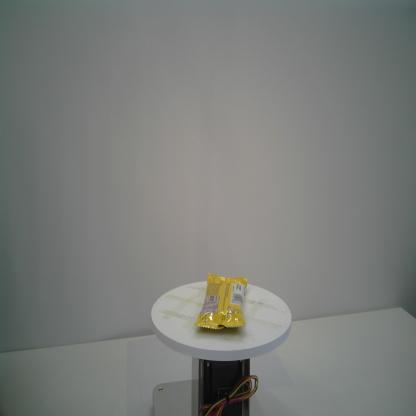Chocolate: (194, 273, 248, 330)
